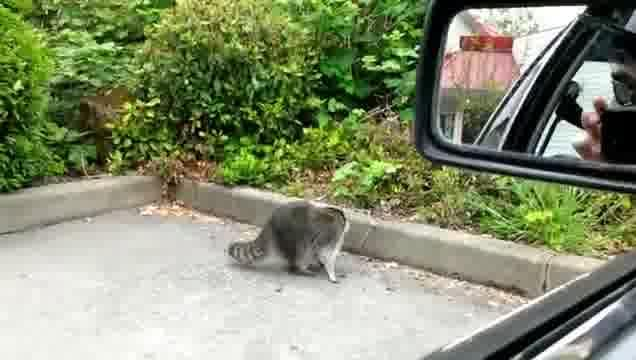raccoon: (226, 200, 350, 285)
